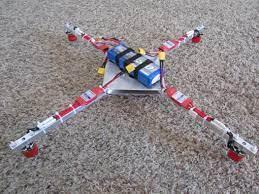drone: (13, 18, 254, 179)
